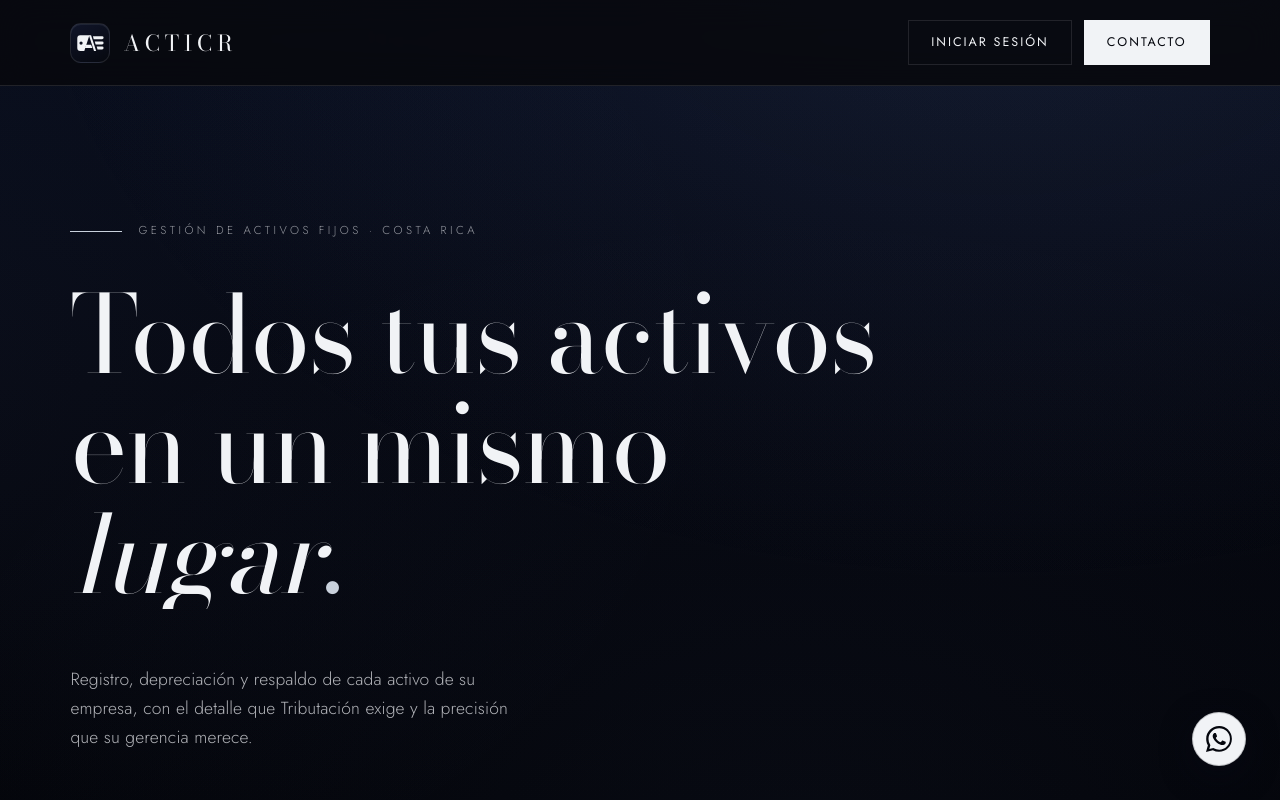
LandingView en el host de marca › "Iniciar sesión" abre el paso que pregunta por la empresa
This screenshot has width=1280, height=800.
Click the button "Iniciar sesión" at (990, 43), box x1=908 y1=20 x2=1072 y2=65
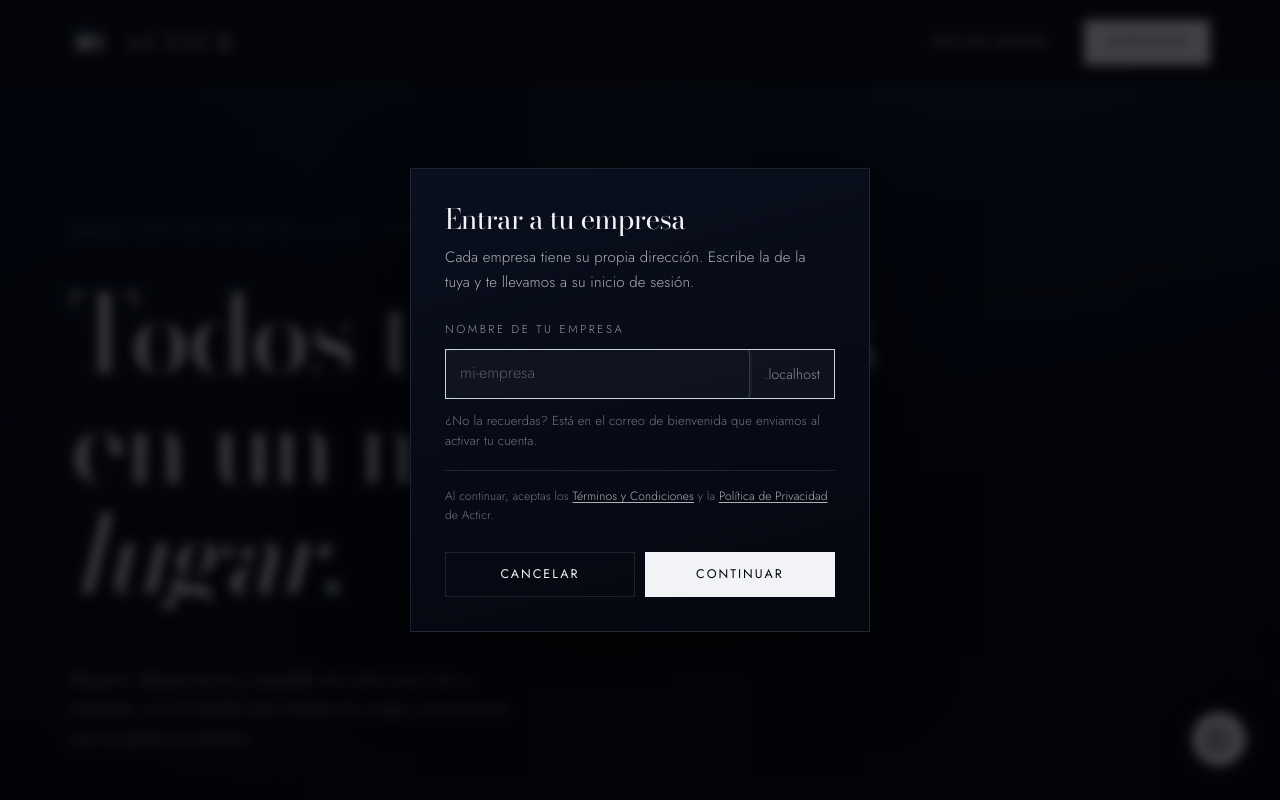
Expected: the field labelled "Nombre de tu empresa" is shown, x1=446 y1=350 x2=749 y2=398
